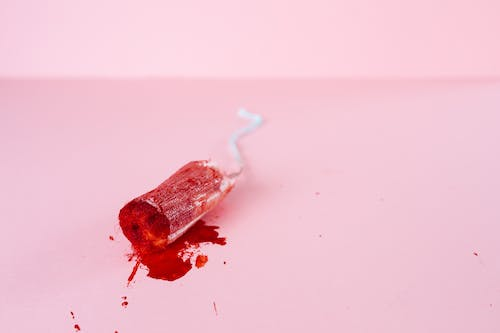blood: (70, 189, 479, 333), (117, 158, 237, 255)
